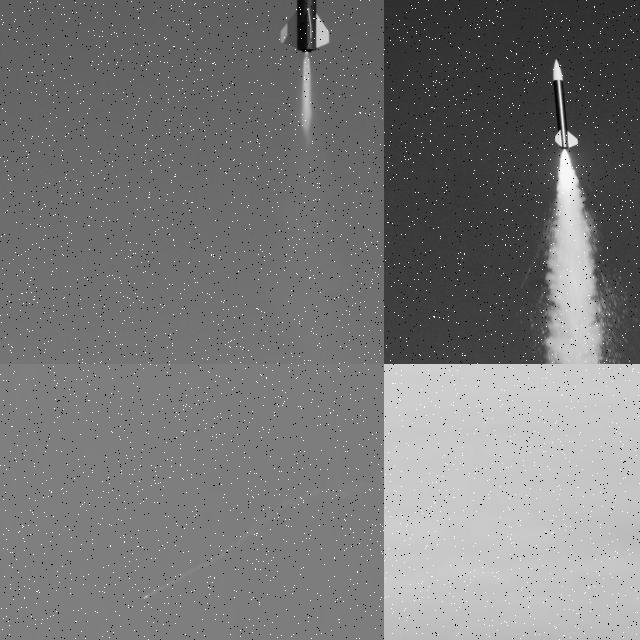Rocket: (278, 0, 330, 53), (552, 59, 579, 151), (143, 594, 148, 600)
